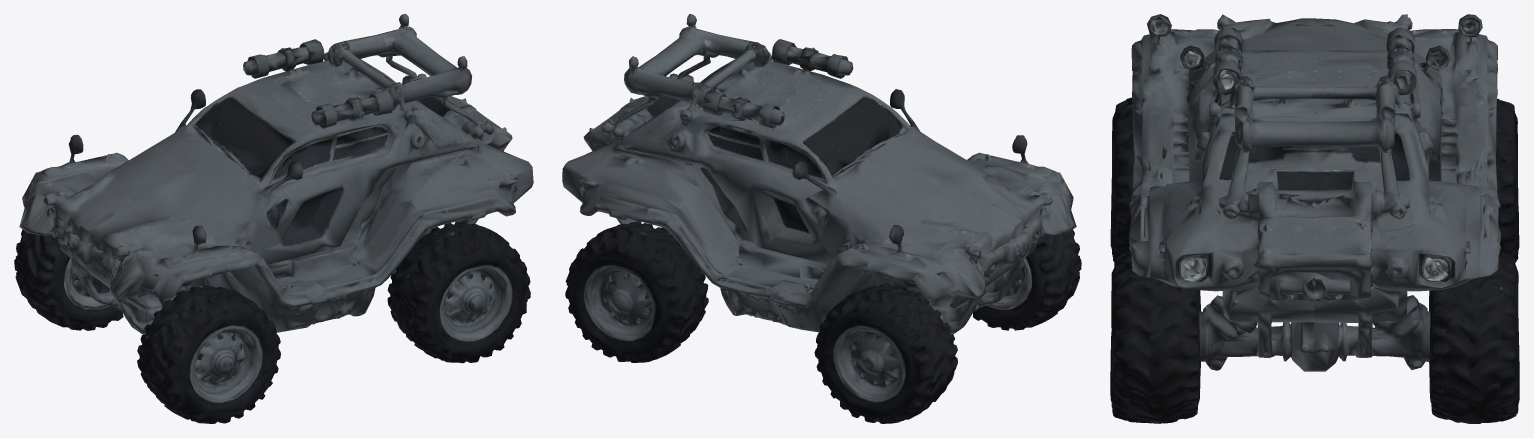
The model's file is sr_shield.glb.
The picture shows the model from 3 angles, left to right: view 1: azimuth 30°, elevation 25°; view 2: azimuth 150°, elevation 25°; view 3: azimuth 270°, elevation 25°; orthographic projection. The views are drawn at different scales.
Size of the model in its own units: 1.9 by 1.14 by 1.26.
Materials: 1 (1 with a texture image).
